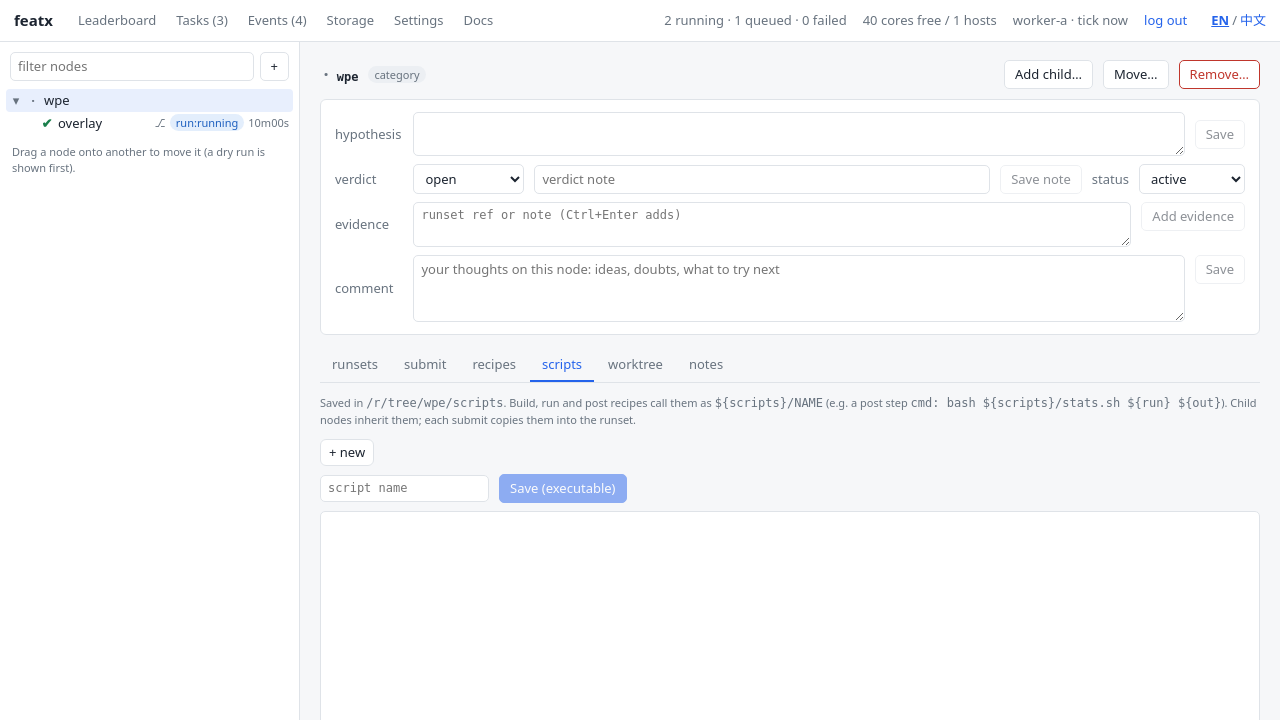
Test: App › keeps a single node header when leaving the scripts tab
Check: the text "Child nodes inherit them" is shown, box [320,395,1257,427]
Step 1. Click the button "worktree" → click(636, 365), box [596,349,675,382]
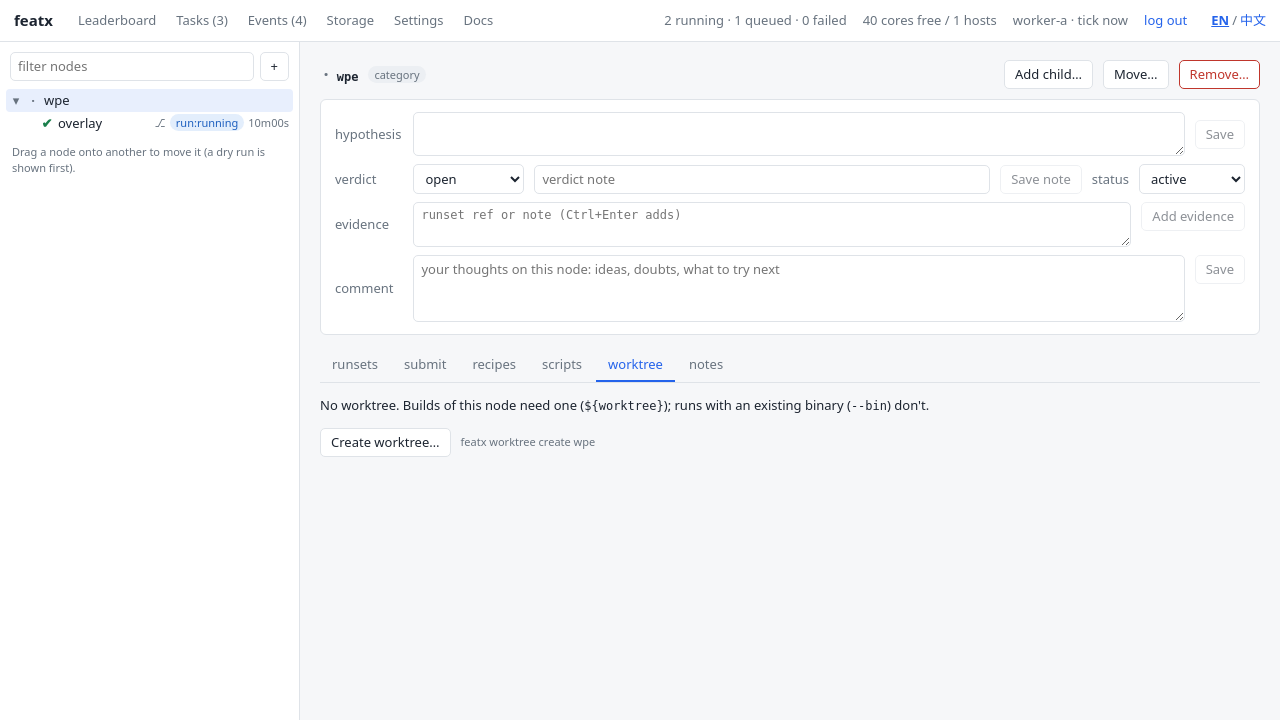
Check: the button "Create worktree…" is shown, box [320,428,450,457]
